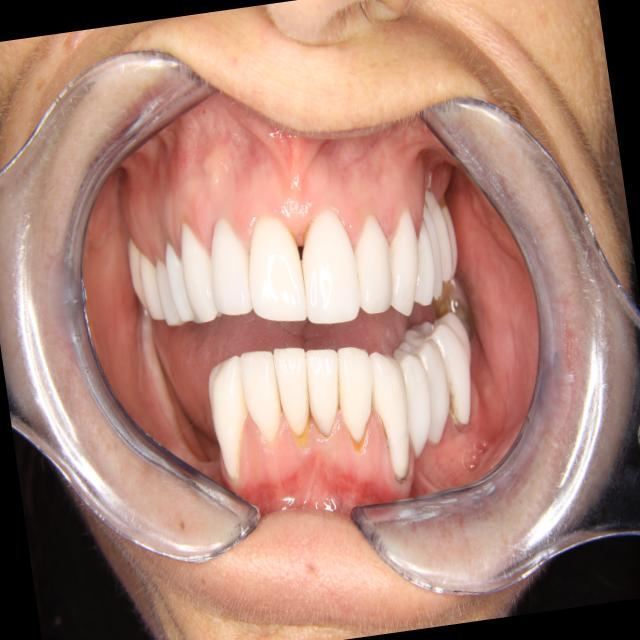tooth: (401, 307, 486, 439), (235, 207, 316, 339), (290, 199, 367, 333), (358, 338, 423, 489), (200, 349, 262, 489), (393, 331, 459, 454), (340, 205, 401, 321), (374, 198, 431, 321), (235, 339, 294, 457), (198, 211, 259, 323), (268, 336, 324, 457), (329, 341, 386, 454), (174, 208, 225, 330), (394, 347, 443, 467), (300, 341, 351, 443), (401, 211, 443, 310), (159, 228, 198, 327), (422, 180, 458, 287), (418, 194, 449, 302), (148, 247, 185, 333), (134, 240, 169, 328), (123, 226, 150, 318), (438, 191, 463, 281)
